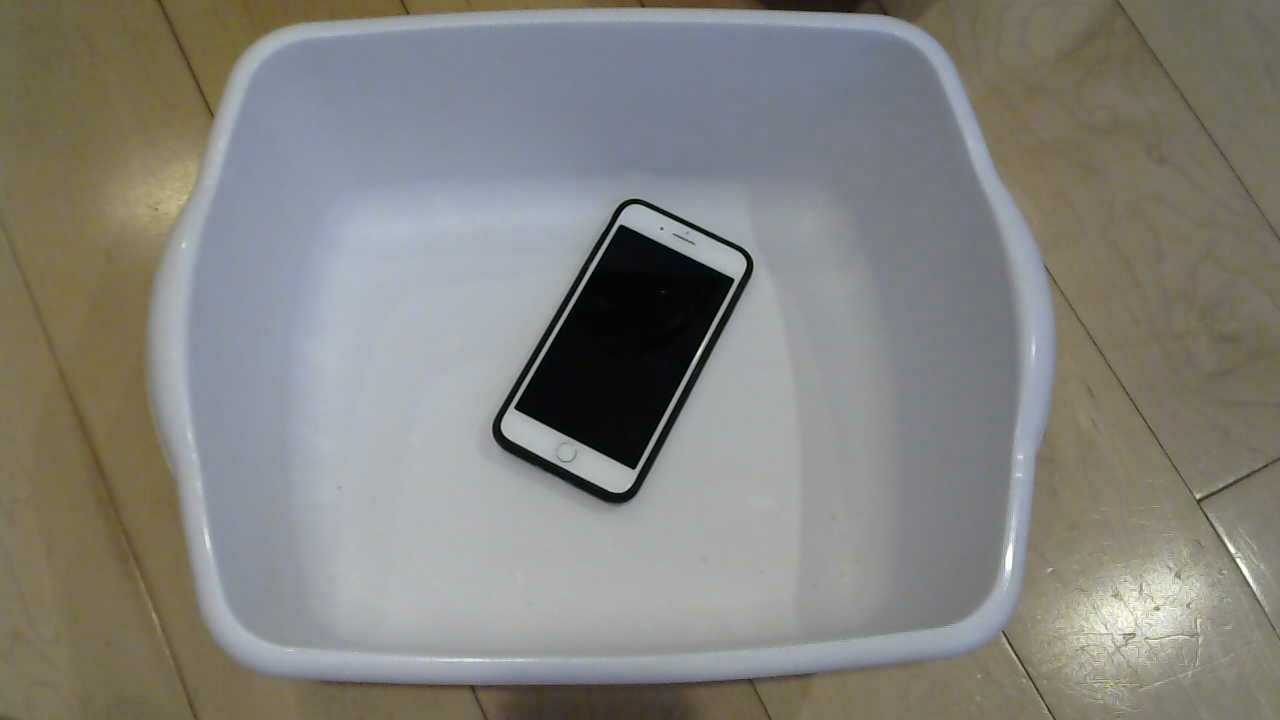phone: (468, 196, 763, 523)
